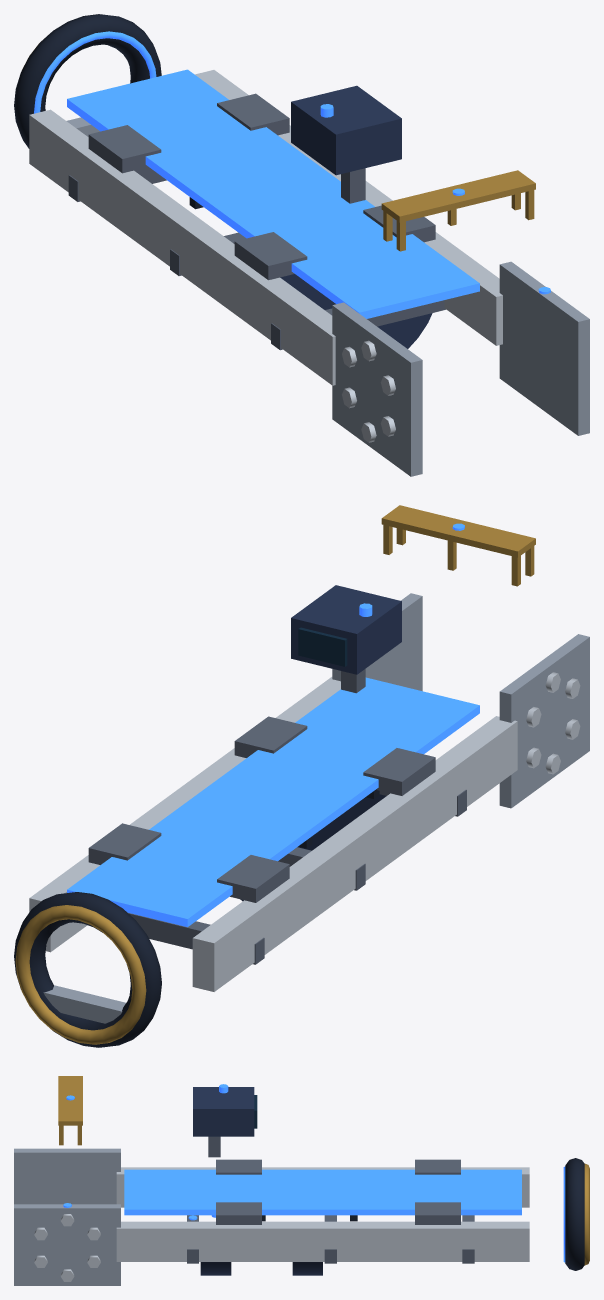
The model's file is tower_lance_damage_s9.glb.
The picture shows the model from 3 angles, top to bottom: view 1: azimuth 30°, elevation 25°; view 2: azimuth 150°, elevation 25°; view 3: azimuth 270°, elevation 25°; orthographic projection. The views are drawn at different scales.
Parts seen in each view (by area): view 1: lance_accelerator_b, lance_heavy_rail_r, lance_breech_cheek_l, lance_breech_cheek_r, lance_sensor_pod, lance_coil4, lance_heavy_rail_l, lance_terminal_cage_top, lance_heavy_rail_brace_r, lance_heavy_rail_brace2_r, lance_heavy_rail_brace2_l, lance_cheek_bolts_l (+5 smaller); view 2: lance_accelerator_b, lance_heavy_rail_r, lance_breech_cheek_r, lance_coil4, lance_sensor_pod, lance_coil_winding4, lance_heavy_rail_l, lance_terminal_cage_top, lance_breech_cheek_l, lance_heavy_rail_brace_r, lance_heavy_rail_brace2_r, lance_insulator4 (+6 smaller); view 3: lance_accelerator_b, lance_heavy_rail_l, lance_breech_cheek_l, lance_breech_cheek_r, lance_sensor_pod, lance_coil4, lance_heavy_rail_r, lance_terminal_cage_top, lance_heavy_rail_brace_l, lance_heavy_rail_brace2_l, lance_cheek_bolts_r, lance_heavy_rail_brace_r (+5 smaller).
Boxes of the visible parts, left/top/right/bottom form: lance_accelerator_b: left=67, top=69, right=479, bottom=318; lance_heavy_rail_r: left=29, top=109, right=335, bottom=385; lance_breech_cheek_l: left=499, top=261, right=589, bottom=435; lance_breech_cheek_r: left=332, top=302, right=422, bottom=476; lance_sensor_pod: left=291, top=85, right=401, bottom=175; lance_coil4: left=14, top=14, right=161, bottom=148; lance_heavy_rail_l: left=195, top=70, right=502, bottom=345; lance_terminal_cage_top: left=381, top=170, right=535, bottom=222; lance_heavy_rail_brace_r: left=234, top=232, right=307, bottom=280; lance_heavy_rail_brace2_r: left=88, top=125, right=161, bottom=173; lance_heavy_rail_brace2_l: left=217, top=93, right=289, bottom=135; lance_cheek_bolts_l: left=342, top=340, right=395, bottom=442; lance_accelerator_b: left=67, top=677, right=479, bottom=927; lance_heavy_rail_r: left=192, top=716, right=517, bottom=991; lance_breech_cheek_r: left=499, top=634, right=589, bottom=808; lance_coil4: left=14, top=892, right=161, bottom=1047; lance_sensor_pod: left=291, top=585, right=401, bottom=674; lance_coil_winding4: left=15, top=905, right=146, bottom=1044; lance_heavy_rail_l: left=29, top=677, right=340, bottom=952; lance_terminal_cage_top: left=381, top=505, right=535, bottom=557; lance_breech_cheek_l: left=332, top=593, right=422, bottom=691; lance_heavy_rail_brace_r: left=363, top=748, right=435, bottom=795; lance_heavy_rail_brace2_r: left=217, top=855, right=289, bottom=902; lance_insulator4: left=43, top=985, right=125, bottom=1023; lance_accelerator_b: left=124, top=1169, right=521, bottom=1215; lance_heavy_rail_l: left=116, top=1221, right=529, bottom=1261; lance_breech_cheek_l: left=14, top=1204, right=120, bottom=1285; lance_breech_cheek_r: left=14, top=1148, right=120, bottom=1204; lance_sensor_pod: left=193, top=1087, right=254, bottom=1136; lance_coil4: left=565, top=1158, right=584, bottom=1270; lance_heavy_rail_r: left=116, top=1167, right=529, bottom=1207; lance_terminal_cage_top: left=58, top=1076, right=82, bottom=1125; lance_heavy_rail_brace_l: left=216, top=1202, right=261, bottom=1224; lance_heavy_rail_brace2_l: left=415, top=1202, right=460, bottom=1224; lance_cheek_bolts_r: left=34, top=1214, right=100, bottom=1281; lance_heavy_rail_brace_r: left=216, top=1159, right=261, bottom=1174.
Bounding box in the file's own units: 0.974 × 1.28 × 3.76.
